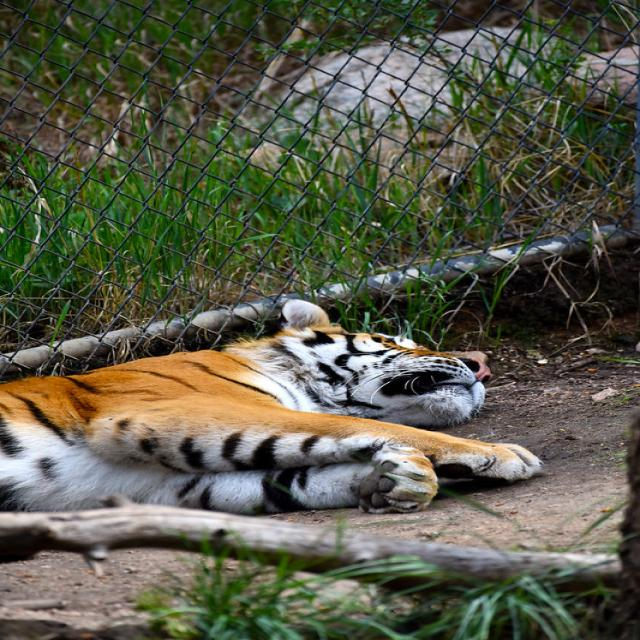Tiger: (0, 295, 544, 528)
